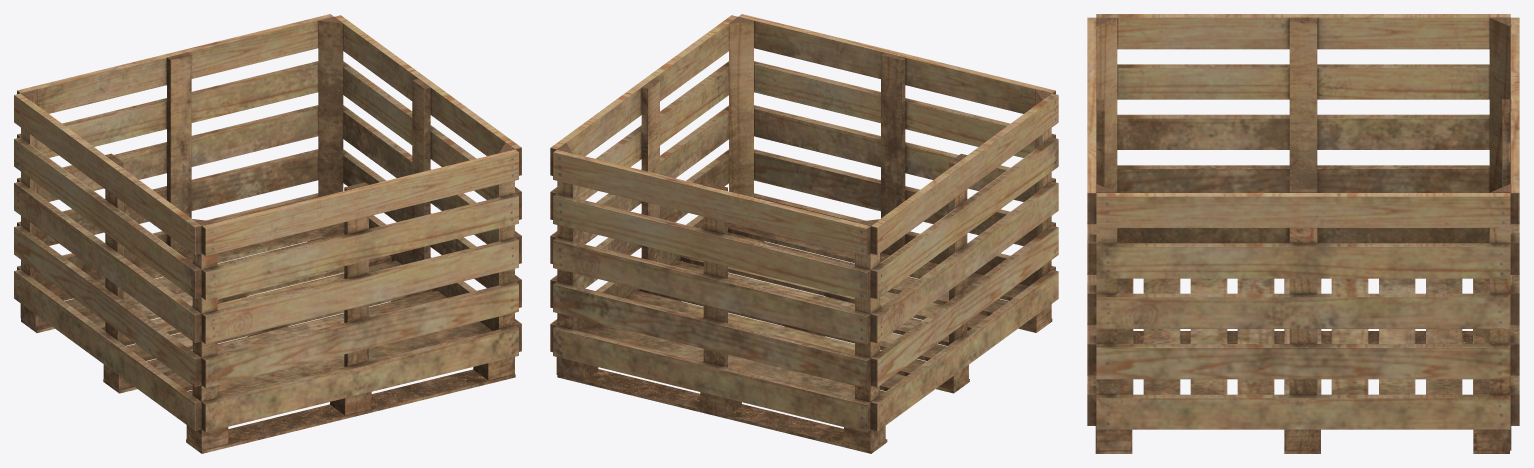
File: container.glb
3 renders of one model, left to right at view 1: azimuth 30°, elevation 25°; view 2: azimuth 150°, elevation 25°; view 3: azimuth 270°, elevation 25°, orthographic. The views are drawn at different scales.
Visible parts, largest first — view 1: Big wooden crate; view 2: Big wooden crate; view 3: Big wooden crate.
Part boxes in pixels (x1,y1,x2,y2): Big wooden crate: [14, 14, 521, 453]; Big wooden crate: [550, 14, 1058, 453]; Big wooden crate: [1087, 14, 1519, 453].
Bounding box in the file's own units: 1.45 × 0.9665 × 1.45.
1 material, 1 textured.
